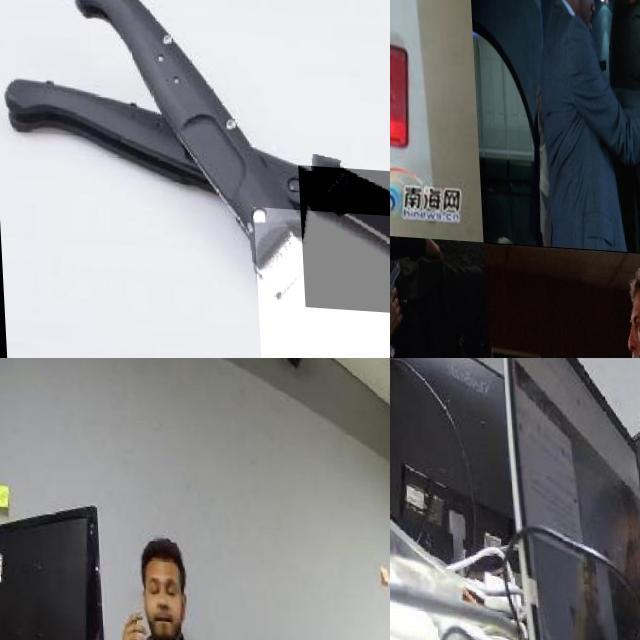-: (250, 203, 390, 358), (296, 160, 390, 319)
gun-knife-thesis - v11 Yolov5 augmented: (390, 0, 455, 182), (390, 253, 405, 329)
